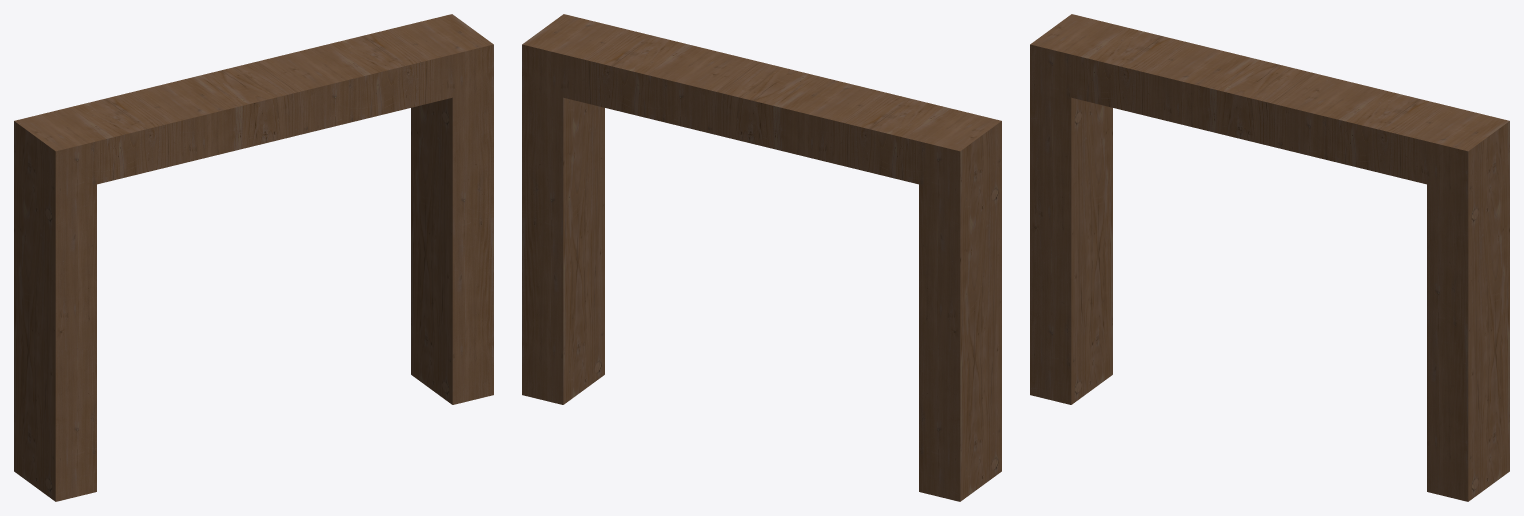
File: build_gate.glb
3 renders of one model, left to right at view 1: azimuth 30°, elevation 25°; view 2: azimuth 150°, elevation 25°; view 3: azimuth 330°, elevation 25°, orthographic.
Visible parts, largest first — view 1: gate; view 2: gate; view 3: gate.
Part boxes in pixels (left/top/right/bottom): gate: left=14, top=14, right=493, bottom=501; gate: left=522, top=14, right=1001, bottom=501; gate: left=1030, top=14, right=1509, bottom=501.
Size of the model in its own units: 1.7 by 1.3 by 0.28.
1 material, 1 textured.
